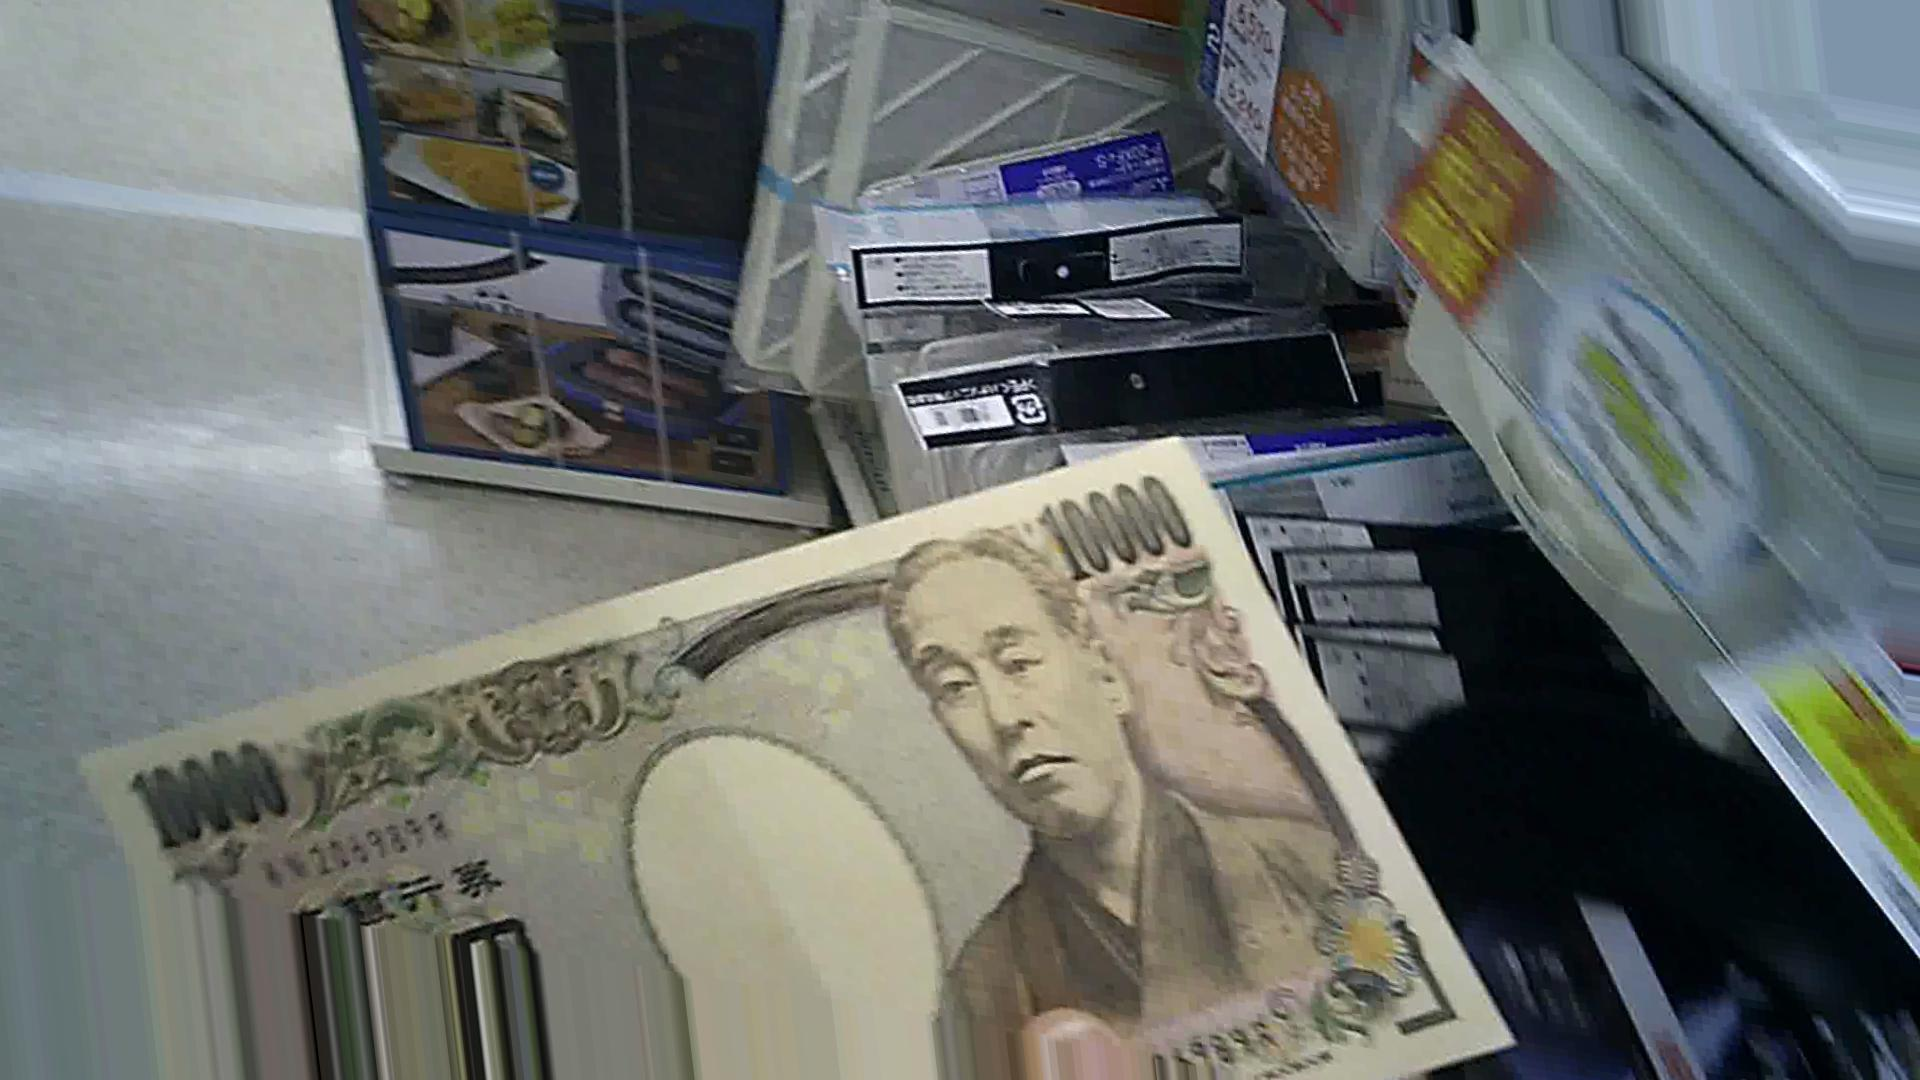10,000 Yen: (88, 425, 1524, 1060)
